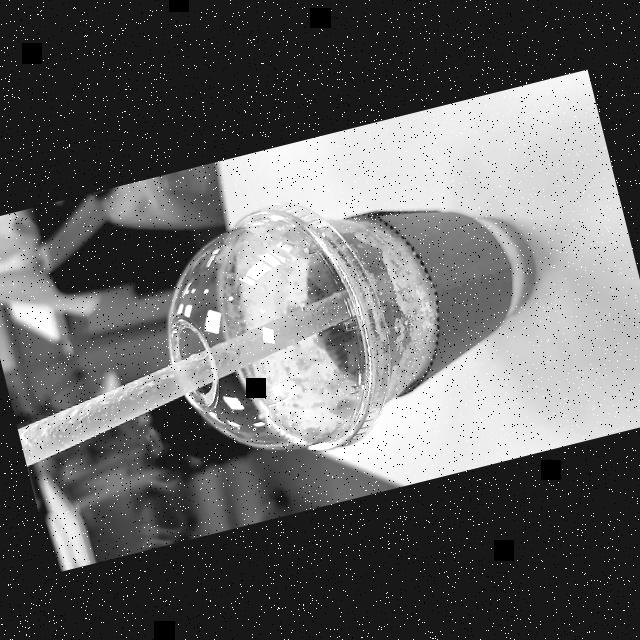plastic_cup: (136, 142, 572, 490)
plastic_cup_lid: (137, 175, 415, 483)
straw: (3, 276, 398, 464)
